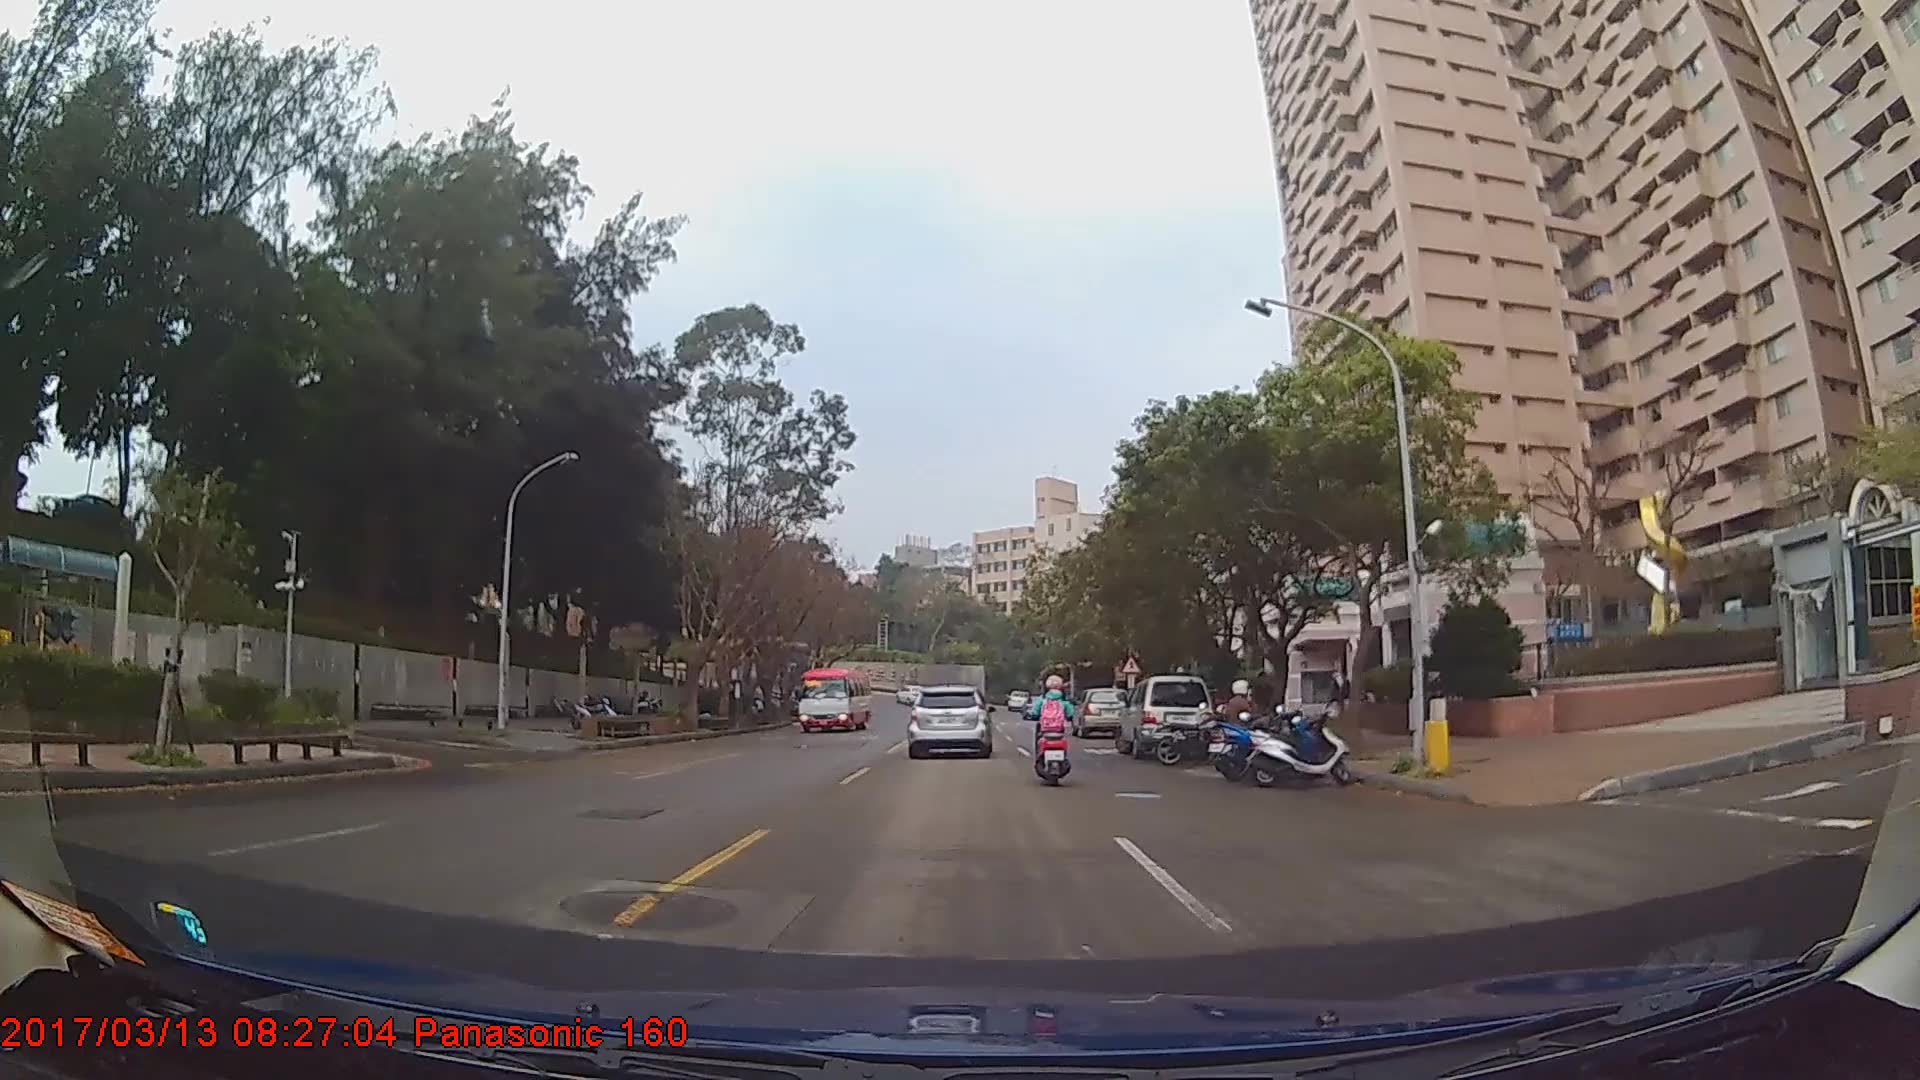rider: (1034, 672, 1083, 791), (1216, 677, 1268, 771)
vehicle: (1115, 673, 1212, 759), (907, 683, 992, 760), (796, 664, 872, 731), (1074, 686, 1131, 737), (894, 681, 927, 703)
